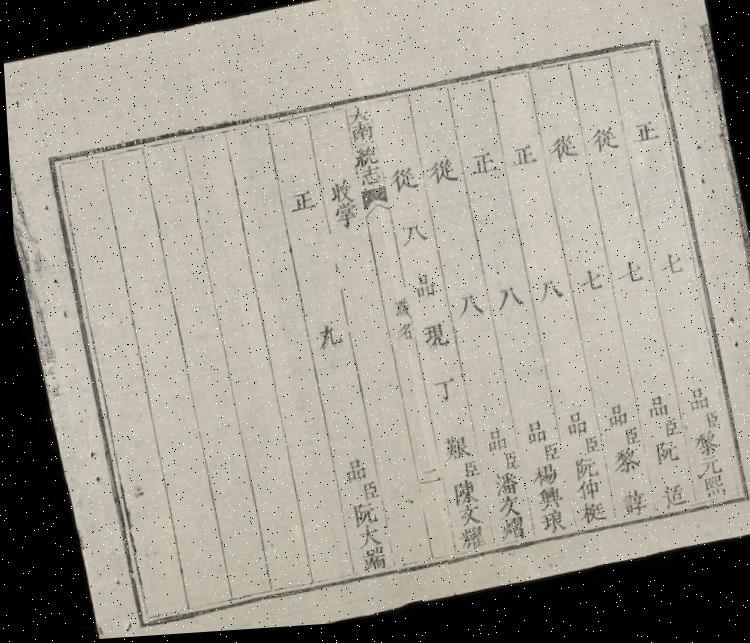c: (422, 159, 456, 192), (433, 436, 468, 468), (414, 324, 446, 357), (611, 493, 643, 526), (544, 138, 578, 169), (308, 323, 340, 355), (650, 486, 682, 518), (449, 294, 481, 326), (586, 130, 618, 162), (386, 168, 419, 199), (488, 288, 522, 318), (568, 504, 603, 533), (678, 390, 709, 422), (644, 444, 676, 475), (603, 452, 636, 482), (448, 528, 481, 558), (522, 467, 556, 496), (526, 490, 560, 519), (555, 414, 586, 445), (626, 124, 658, 154), (684, 436, 716, 466), (341, 502, 373, 532), (598, 406, 628, 438), (530, 512, 562, 542), (484, 474, 516, 504), (344, 526, 378, 554), (530, 282, 561, 312), (611, 265, 642, 295), (442, 482, 473, 512), (328, 204, 358, 235), (636, 399, 668, 428), (394, 224, 426, 253), (489, 520, 521, 549), (652, 256, 682, 286), (334, 459, 364, 489), (476, 430, 506, 460), (406, 274, 435, 305), (465, 155, 496, 184), (350, 548, 382, 576), (566, 482, 598, 510), (572, 273, 602, 302), (516, 423, 546, 452), (348, 146, 379, 174), (284, 191, 315, 219), (486, 498, 517, 526), (690, 481, 722, 508), (562, 461, 594, 488), (425, 381, 454, 408), (688, 461, 718, 487), (447, 507, 477, 533), (506, 148, 535, 174), (324, 182, 352, 208), (353, 168, 380, 192), (346, 125, 373, 148), (386, 300, 409, 324), (653, 423, 676, 446), (344, 108, 369, 129), (352, 482, 374, 505), (452, 463, 475, 485), (390, 326, 412, 348), (534, 447, 556, 469), (494, 455, 515, 478), (615, 431, 636, 454), (575, 440, 596, 463), (695, 417, 716, 438)
